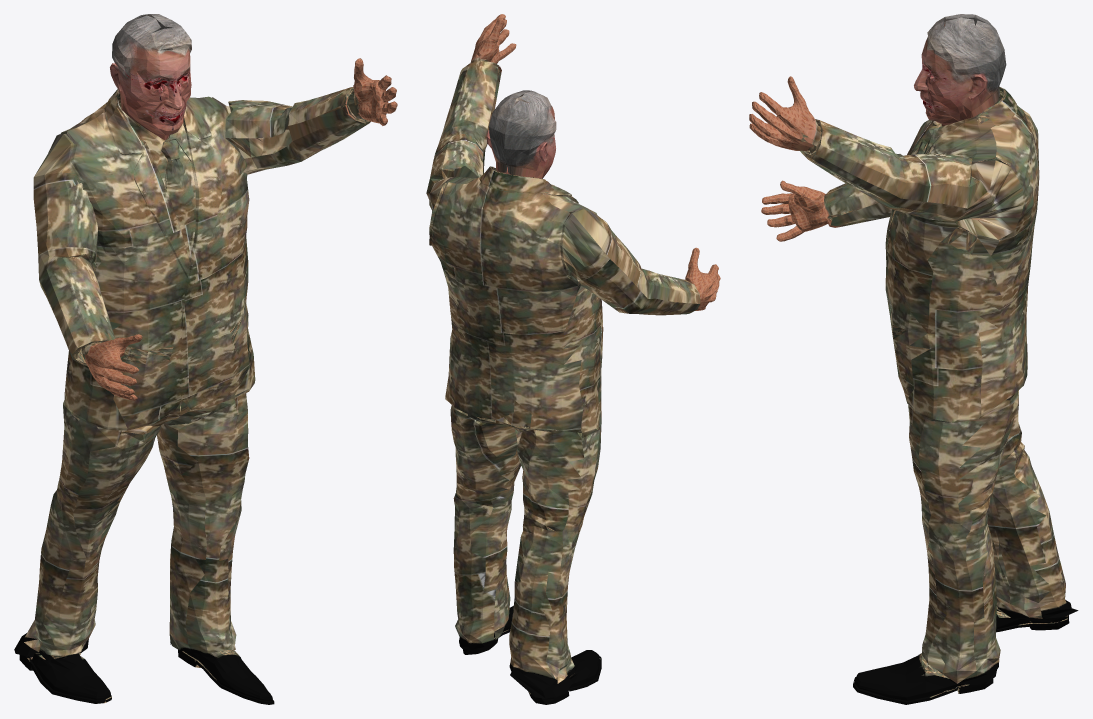
Rendered from zombie_000051.obj.
3 views of the same model, side by side, from view 1: azimuth 30°, elevation 25°; view 2: azimuth 150°, elevation 25°; view 3: azimuth 270°, elevation 25° (orthographic). The views are drawn at different scales.
Parts seen in each view (by area): view 1: Suit_coat_orig_9___De, objGeo_Hea_orig_9___D; view 2: Suit_coat_orig_9___De, objGeo_Hea_orig_9___D; view 3: Suit_coat_orig_9___De, objGeo_Hea_orig_9___D.
Part boxes in pixels (x1,y1,x2,y2): Suit_coat_orig_9___De: (14,58,397,704); objGeo_Hea_orig_9___D: (110,14,191,140); Suit_coat_orig_9___De: (426,14,720,704); objGeo_Hea_orig_9___D: (486,90,556,178); Suit_coat_orig_9___De: (749,76,1078,704); objGeo_Hea_orig_9___D: (914,14,1006,126).
Bounding box in the file's own units: 0.8671 × 1.9 × 0.8698.
